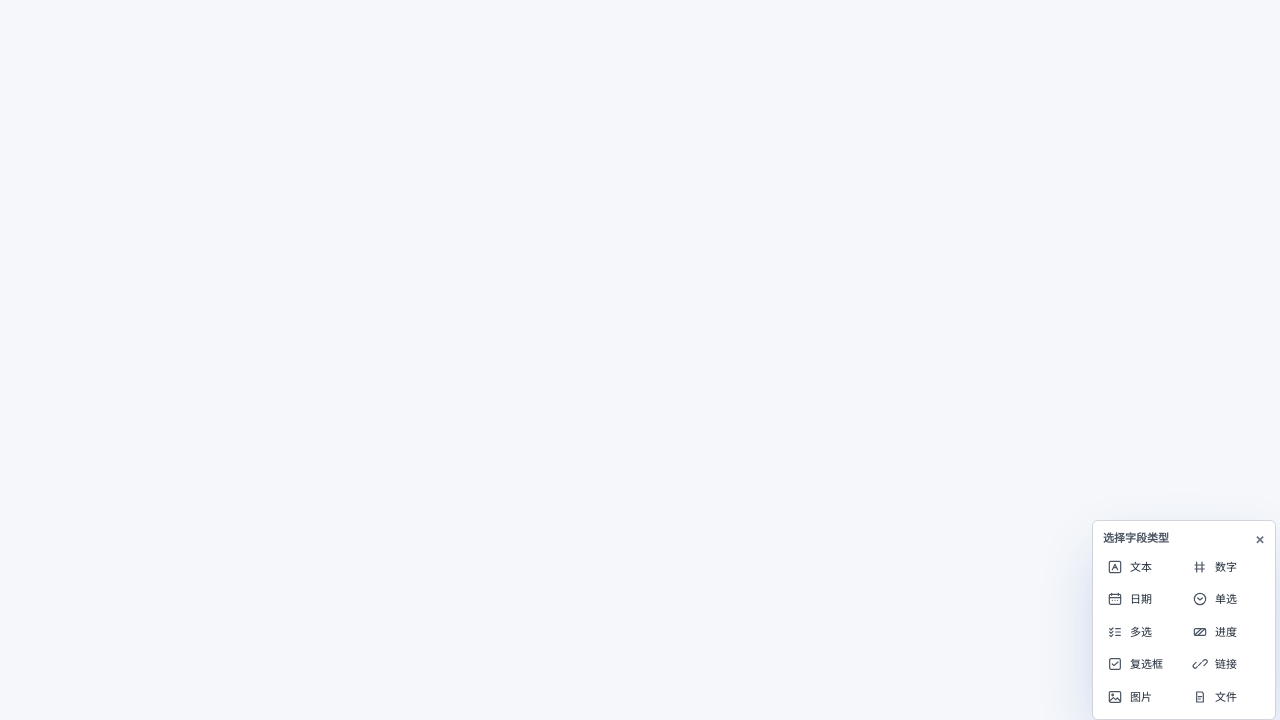
Test: FieldTypePicker › 创建失败时保留选择器并显示错误
(page scrolled)
Click the option "文本". click: [1142, 567]
box: [1101,552,1182,581]
(page scrolled)
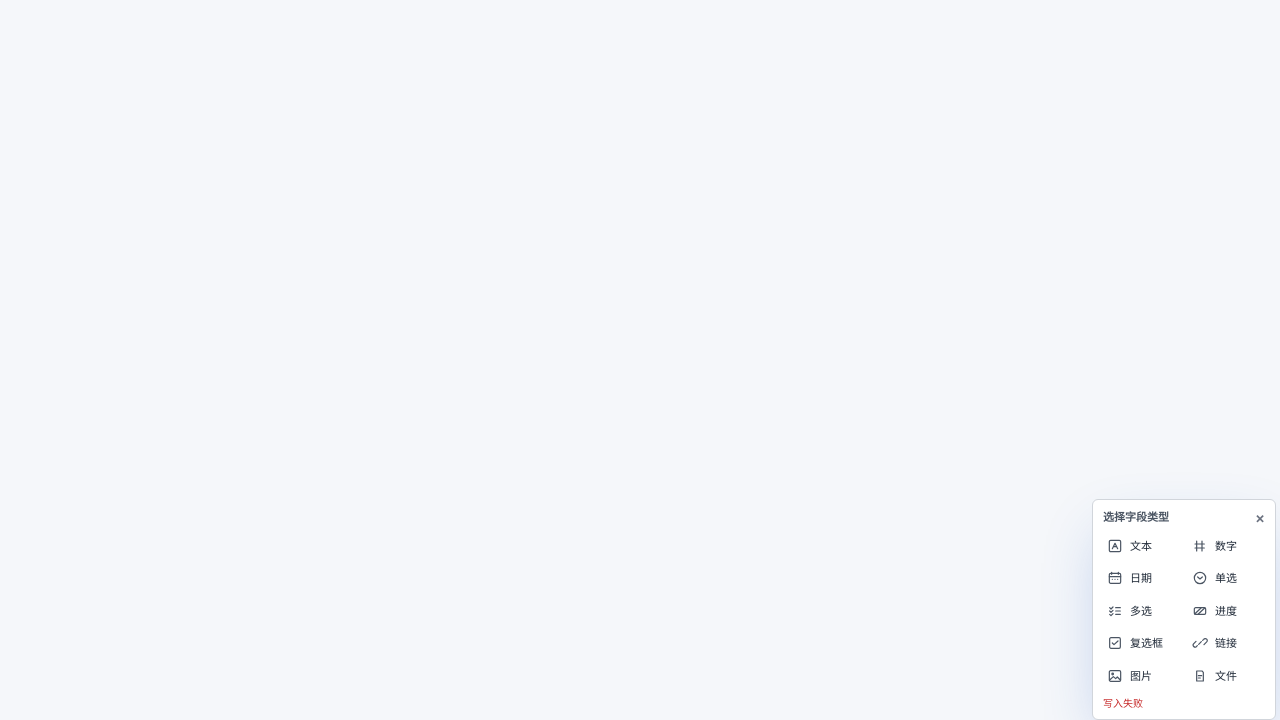
Expected: the dialog "选择字段类型" is shown, [1092,499,1276,719]
Now the message reads "写入失败", box [1103,697,1143,709]
